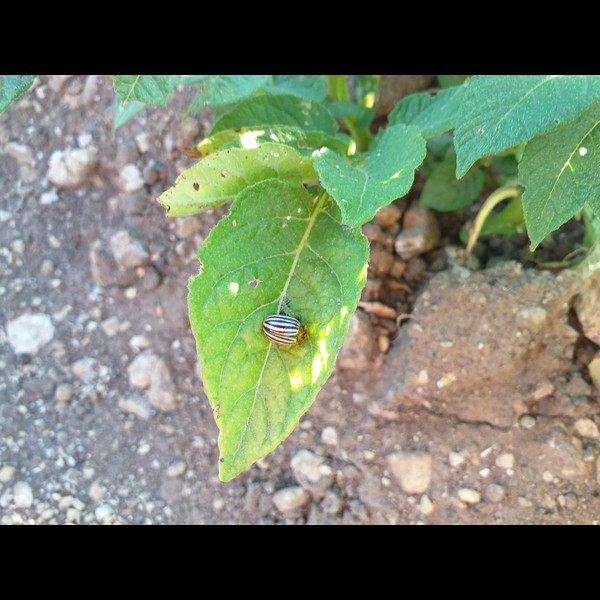hrosc: (261, 307, 306, 349)
